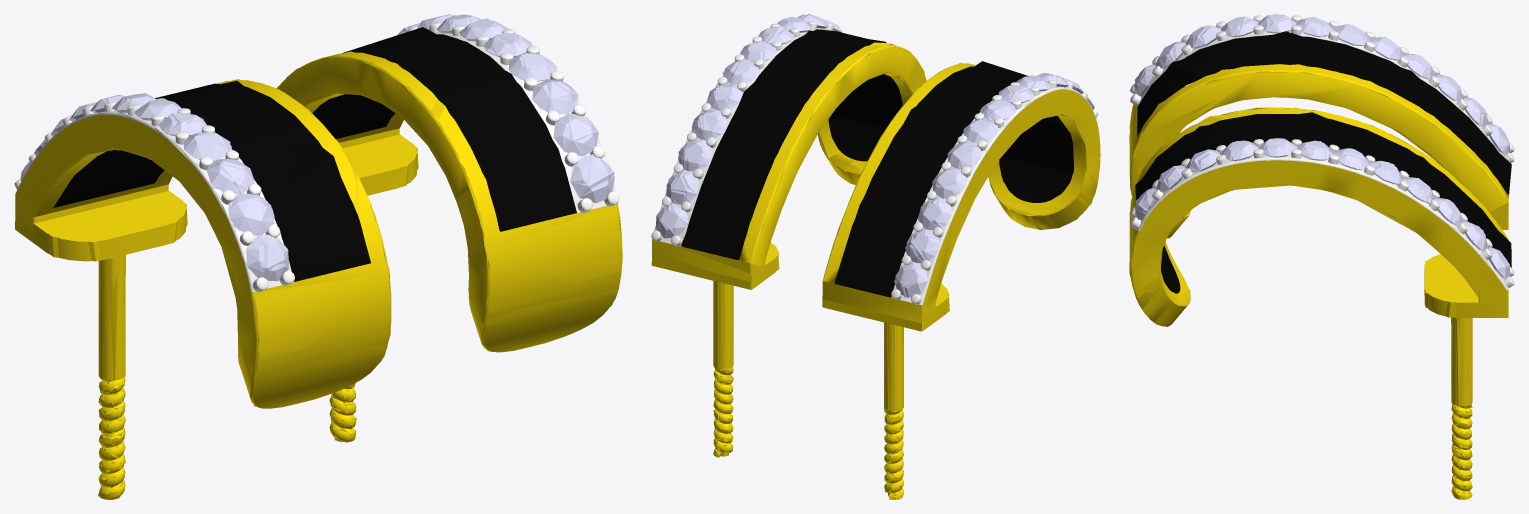
3 renders of one model, left to right at view 1: azimuth 30°, elevation 25°; view 2: azimuth 150°, elevation 25°; view 3: azimuth 270°, elevation 25°, orthographic. The views are drawn at different scales.
Visible parts, largest first — view 1: highPolyMesh, lowPolyMesh; view 2: highPolyMesh, lowPolyMesh; view 3: highPolyMesh, lowPolyMesh.
Part boxes in pixels (x1,y1,x2,y2): highPolyMesh: (14,14,622,499); lowPolyMesh: (14,14,622,499); highPolyMesh: (651,14,1100,499); lowPolyMesh: (651,14,1100,499); highPolyMesh: (1130,14,1514,499); lowPolyMesh: (1129,15,1514,499).
Bounding box in the file's own units: 0.0177 × 0.0219 × 0.0205.
